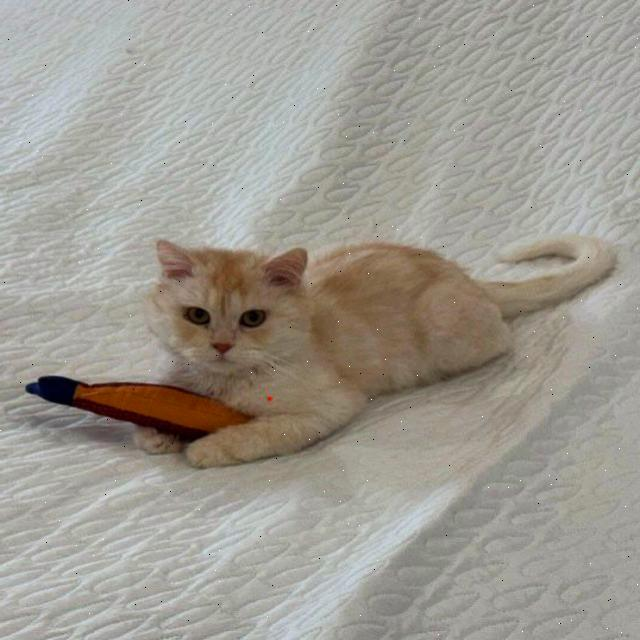persian_cat: (116, 227, 328, 394)
